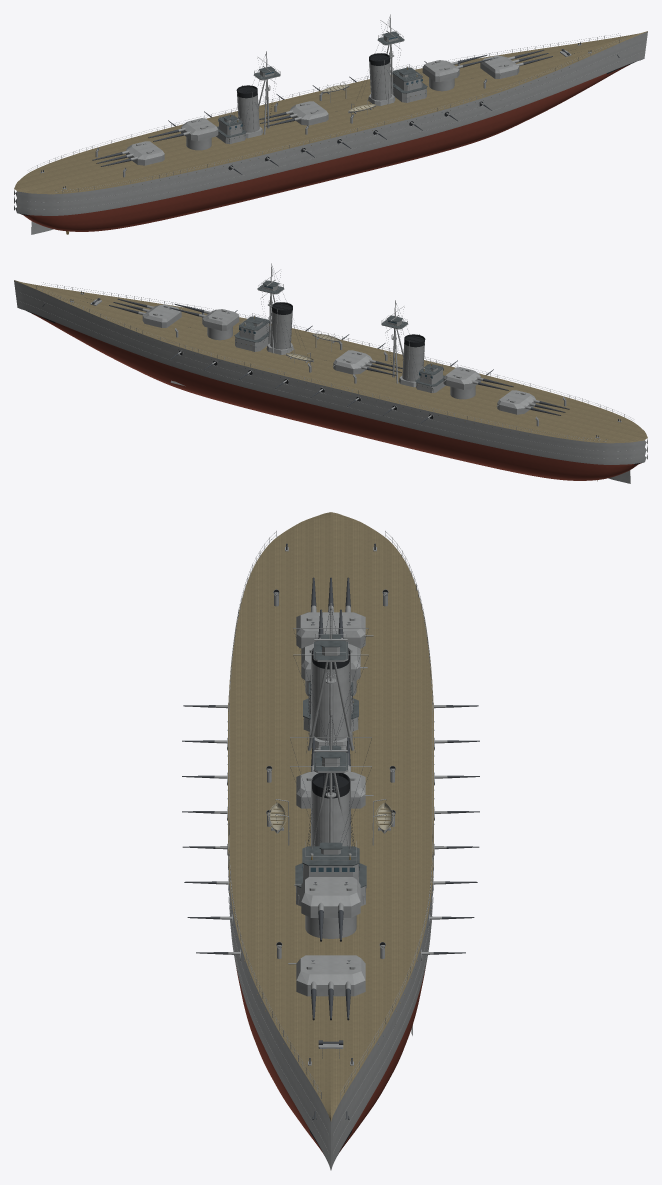
The model's file is andrea_doria.glb.
The picture shows the model from 3 angles, top to bottom: view 1: azimuth 30°, elevation 25°; view 2: azimuth 150°, elevation 25°; view 3: azimuth 270°, elevation 25°; orthographic projection. The views are drawn at different scales.
Parts seen in each view (by area): view 1: Andrea Doria class; view 2: Andrea Doria class; view 3: Andrea Doria class.
Part boxes in pixels (left/top/right/bottom): Andrea Doria class: left=14, top=14, right=647, bottom=234; Andrea Doria class: left=14, top=263, right=647, bottom=483; Andrea Doria class: left=182, top=512, right=479, bottom=1170.
Bounding box in the file's own units: 188 × 38.39 × 38.28.
9 materials, 8 textured.
